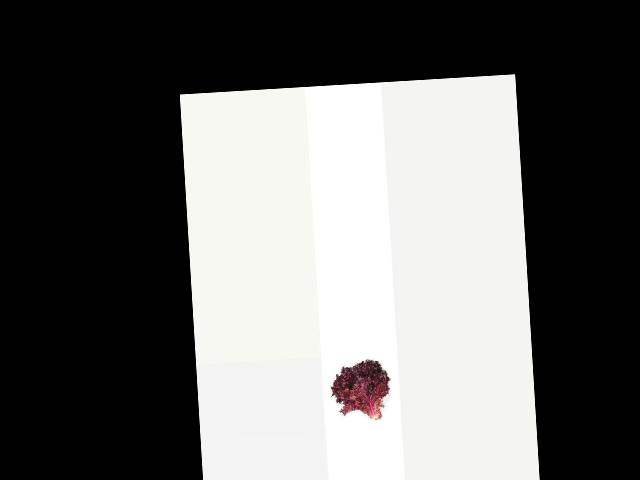lettuce: (327, 355, 390, 428)
